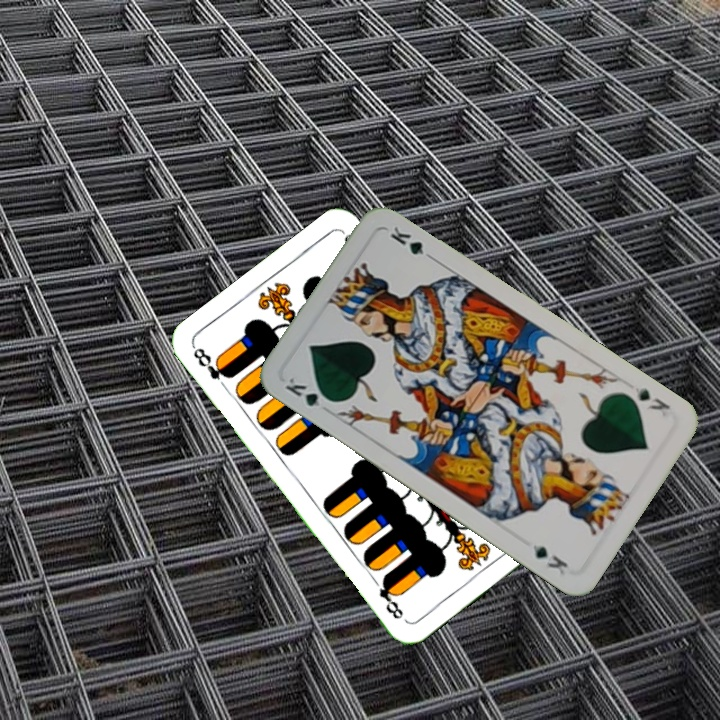E8: (189, 343, 235, 383)
GK: (281, 373, 337, 412), (630, 383, 673, 413)
